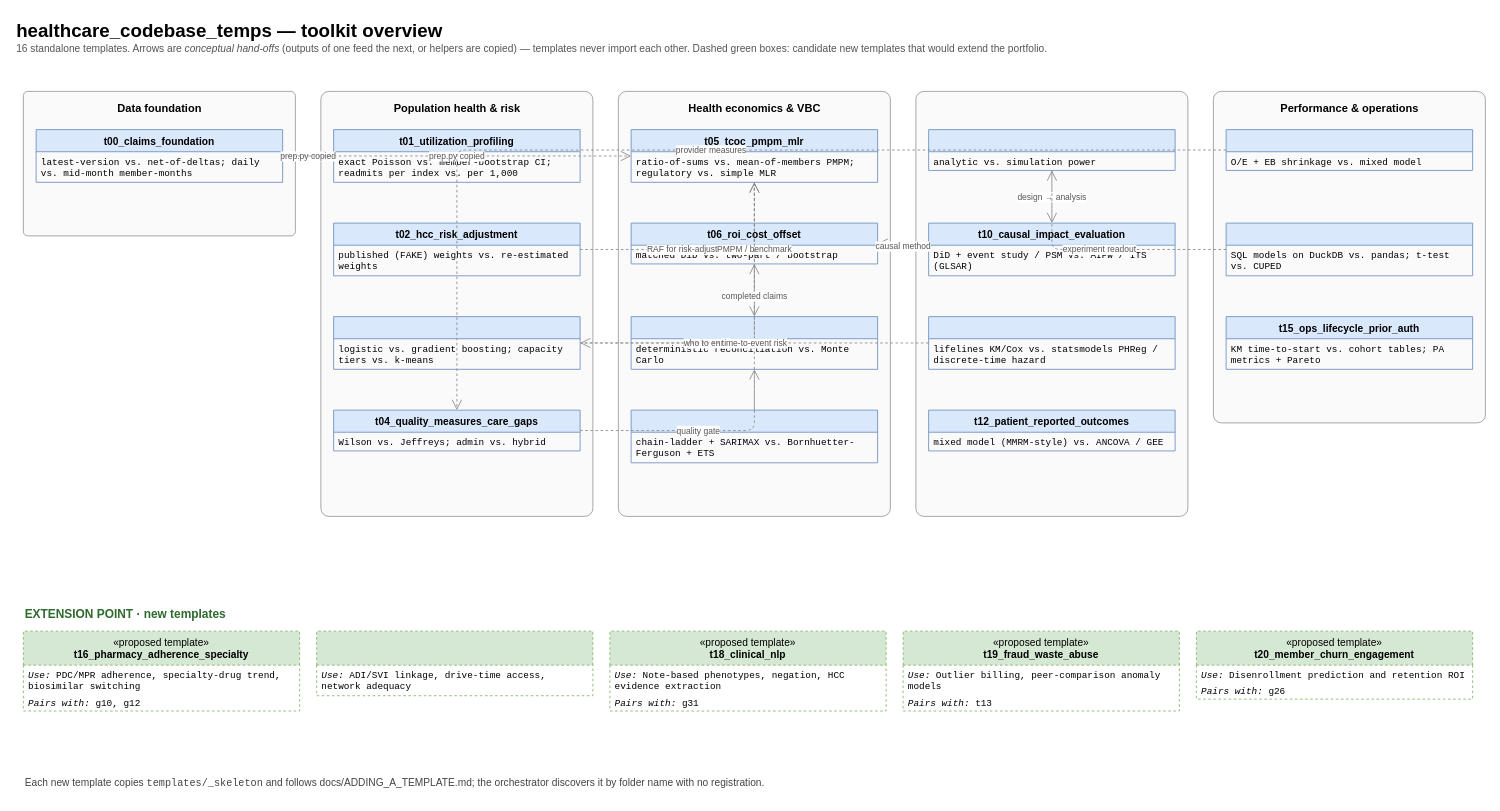
This 1500x811 diagram has some shape labels left out. Here are the shapes that lost their labels. From the top down, the box of each, then its label:
(928, 129, 1175, 170): t09_study_design_power
(1225, 129, 1473, 170): t13_provider_benchmark_profiling
(1225, 222, 1473, 276): t14_metric_layer_dbt_style
(915, 91, 1188, 516): Evidence generation
(333, 316, 580, 369): t03_predictive_risk_stratification
(630, 316, 878, 369): t07_vbc_contract_modeling
(928, 316, 1175, 369): t11_survival_time_to_event
(630, 409, 878, 463): t08_claims_completion_forecast
(316, 630, 593, 696): «proposed template» t17_sdoh_geospatial
